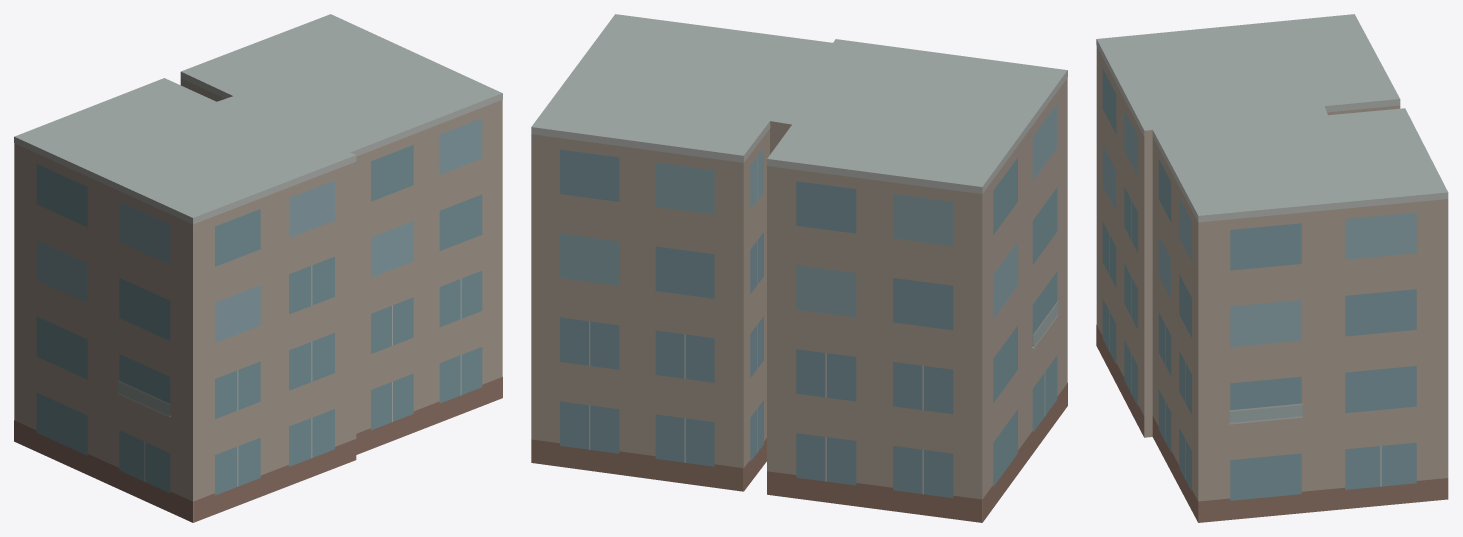
Rendered from survey-upis-33021826.glb.
3 views of the same model, side by side, from view 1: azimuth 30°, elevation 25°; view 2: azimuth 150°, elevation 25°; view 3: azimuth 270°, elevation 25° (orthographic). The views are drawn at different scales.
Visible parts, largest first — view 1: survey-upis-33021826.tmp; view 2: survey-upis-33021826.tmp; view 3: survey-upis-33021826.tmp.
Boxes of the visible parts, x1,y1,x2,y2 form: survey-upis-33021826.tmp: [14, 14, 502, 522]; survey-upis-33021826.tmp: [531, 14, 1067, 522]; survey-upis-33021826.tmp: [1096, 14, 1448, 522].
Bounding box in the file's own units: 16.3 × 11.55 × 12.01.
